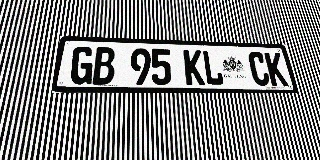5: (151, 49, 172, 85)
9: (131, 48, 151, 85)
B: (92, 47, 115, 85)
C: (247, 52, 271, 86)
G: (69, 46, 94, 84)
K: (264, 52, 288, 86), (183, 50, 205, 85)
L: (202, 50, 224, 85)
